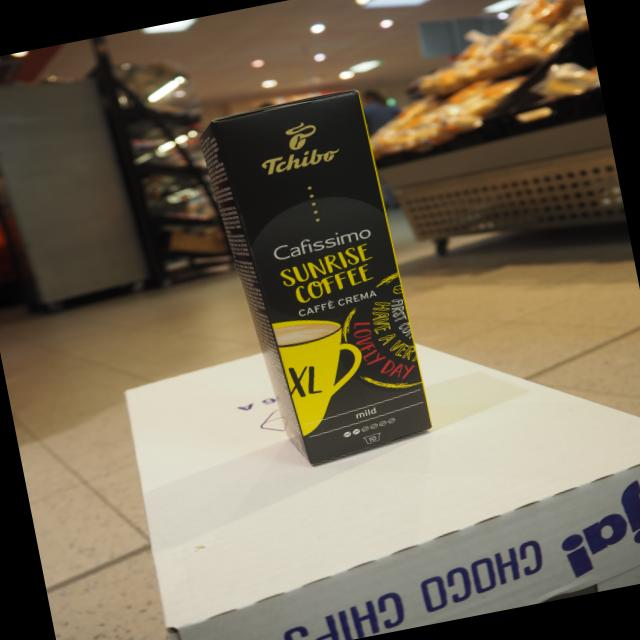Simo Sunrise: (213, 86, 435, 470)
